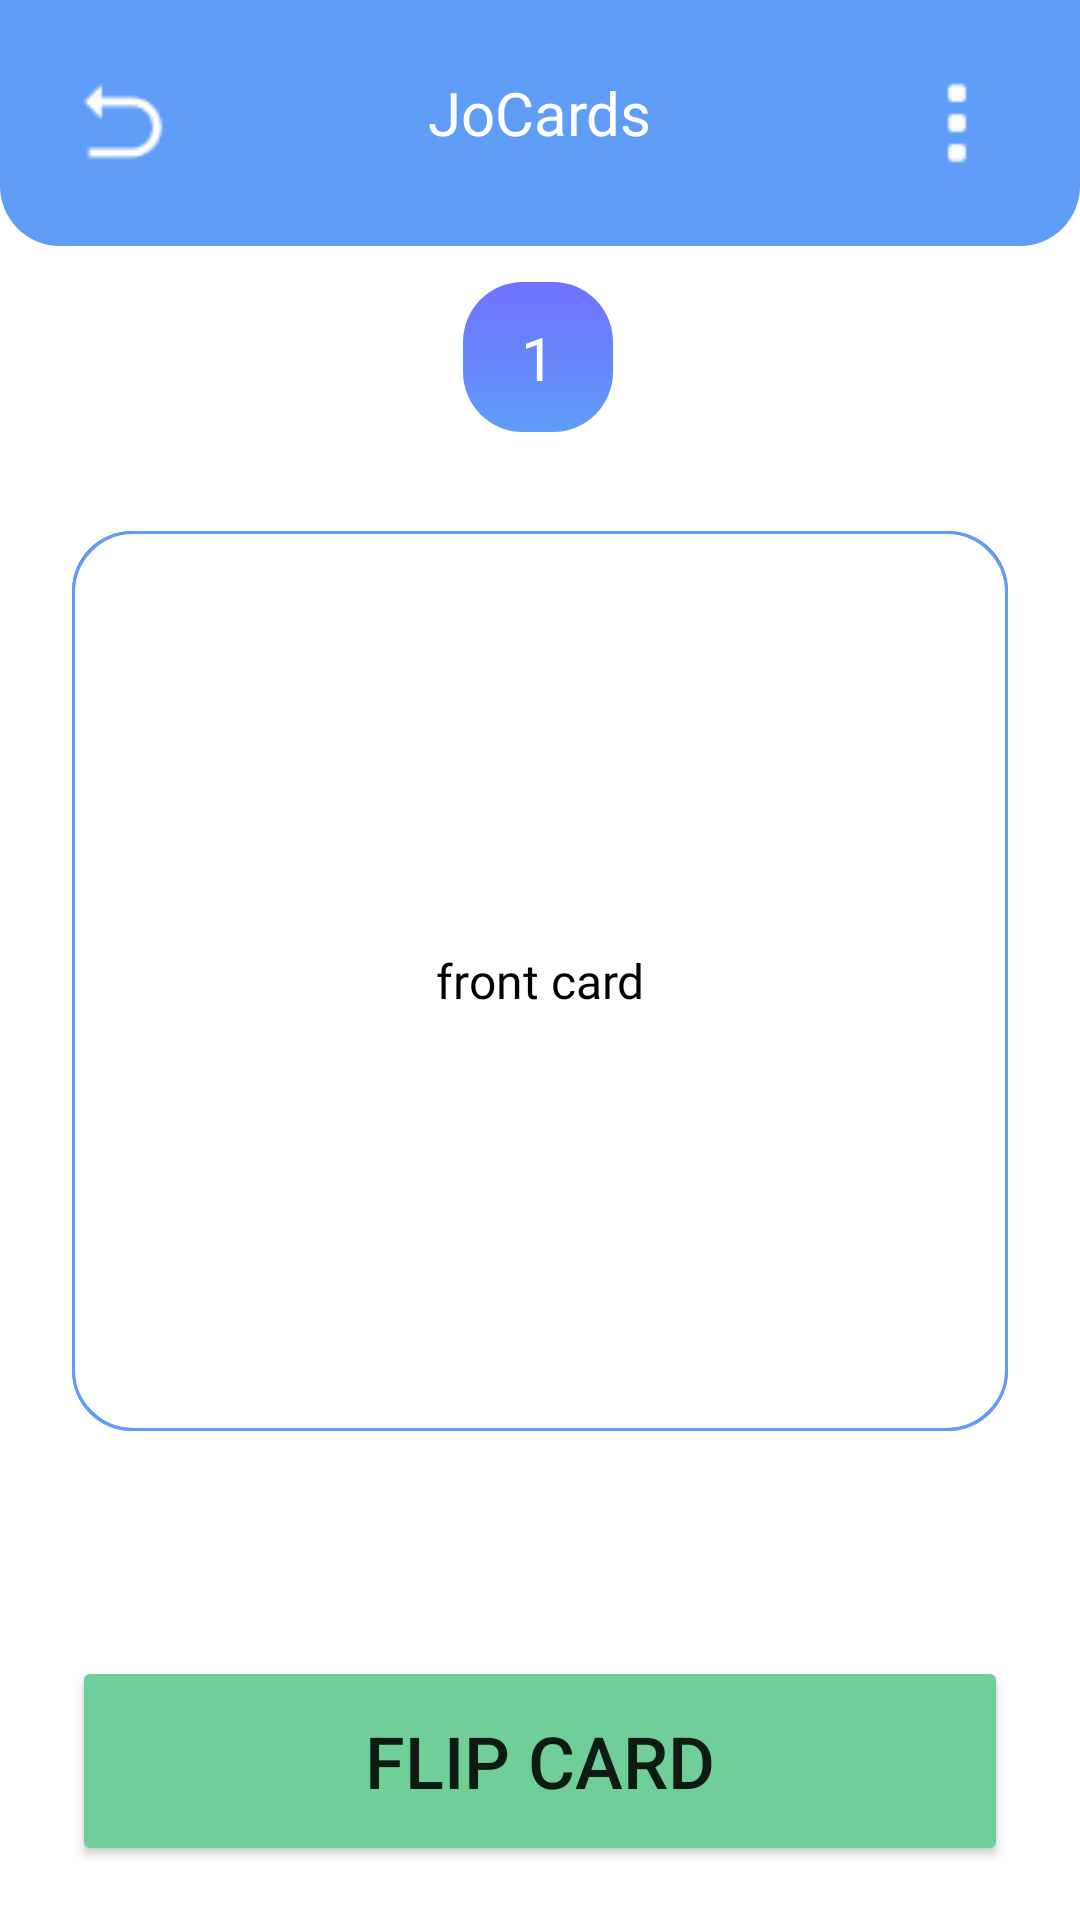

Screen size 1080px x 1920px. Icon name, then its box in pixels as (x1, y1, x2, y2):
back: (84, 84, 163, 159)
setting: (947, 83, 967, 163)
